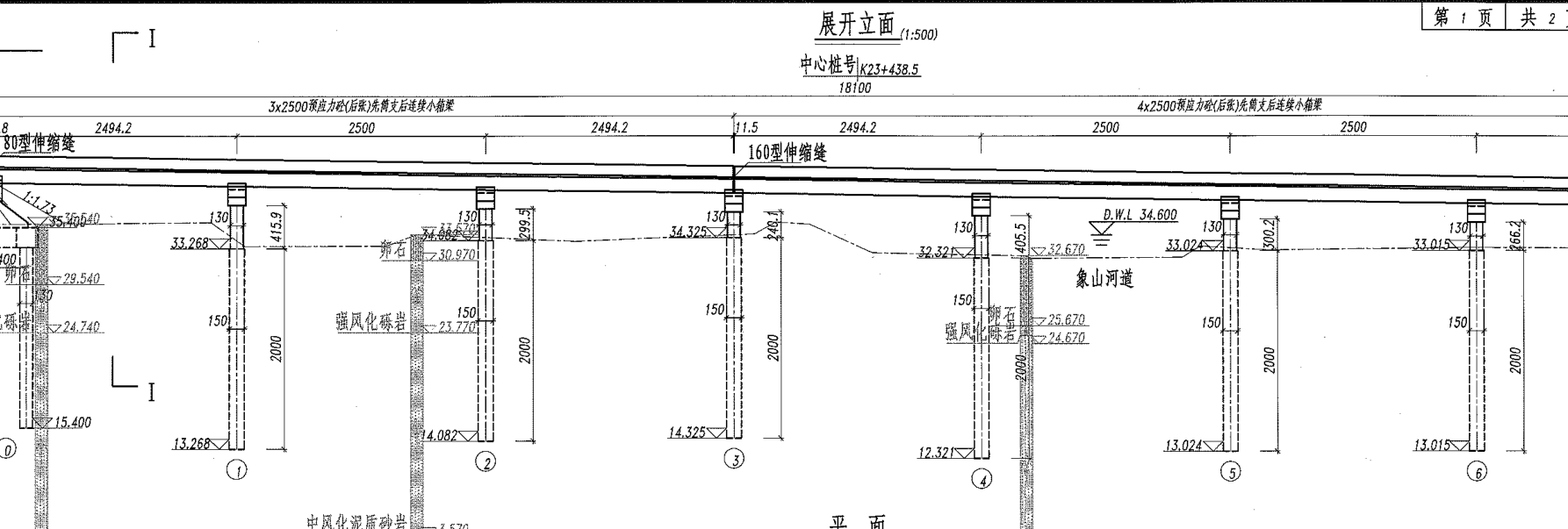A: (3, 81, 1568, 102)
B: (729, 97, 1568, 122), (1, 97, 743, 121)
C: (905, 186, 1006, 497), (162, 177, 263, 487), (1152, 190, 1255, 488), (1401, 194, 1500, 488), (657, 182, 756, 474), (425, 181, 509, 476)
D: (1079, 201, 1179, 248)
